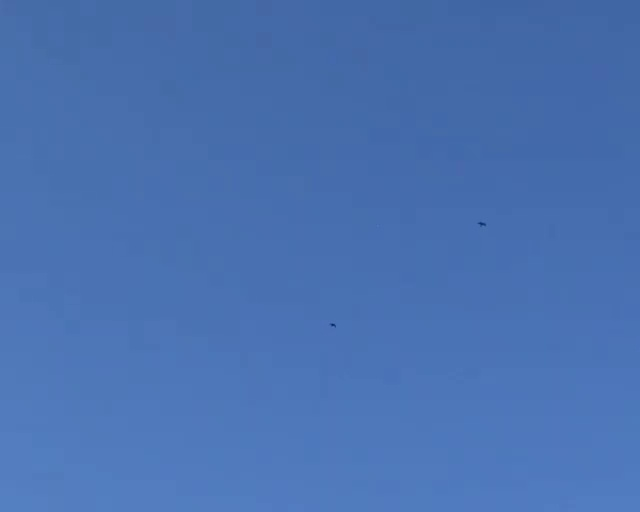BIRD: (329, 322, 337, 327)
